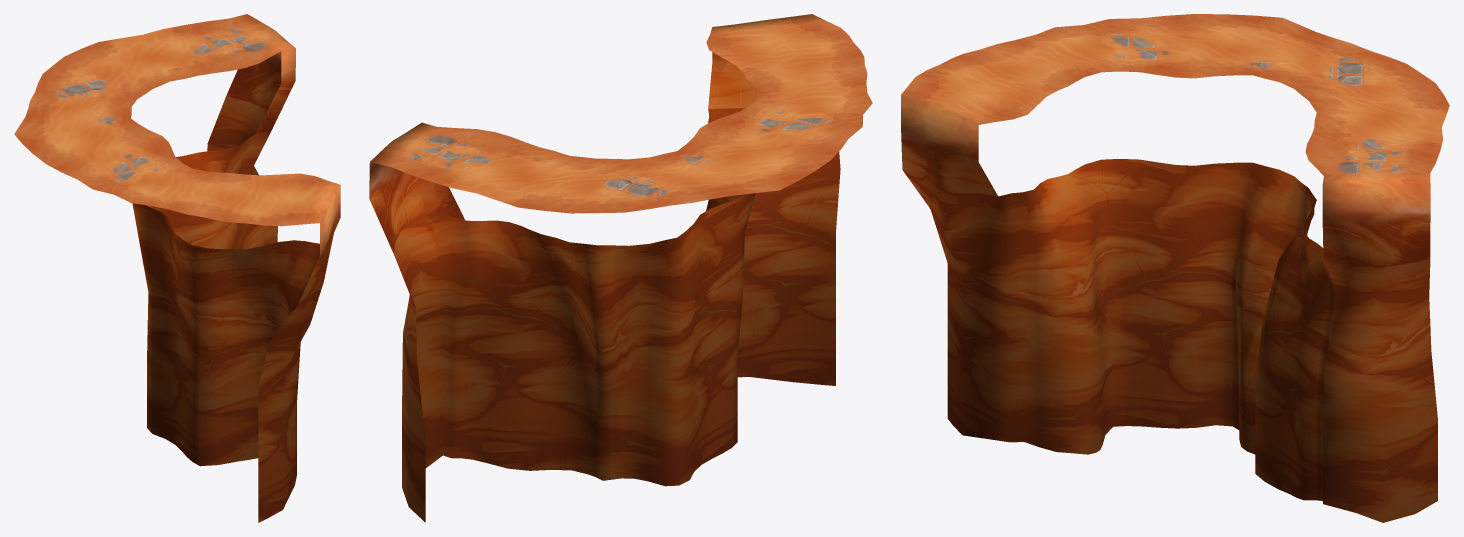
File: path_02.fbx
3 renders of one model, left to right at view 1: azimuth 30°, elevation 25°; view 2: azimuth 150°, elevation 25°; view 3: azimuth 270°, elevation 25°, orthographic. The views are drawn at different scales.
Parts seen in each view (by area): view 1: path_02; view 2: path_02; view 3: path_02.
Part boxes in pixels (x1,y1,x2,y2): path_02: [14, 14, 340, 522]; path_02: [369, 14, 872, 522]; path_02: [901, 14, 1449, 522].
Size of the model in its own units: 44.21 by 41.66 by 59.7.
Materials: 1 (1 with a texture image).
